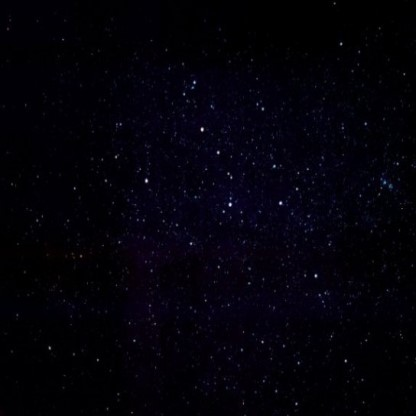Cassiopeia: (269, 194, 287, 208), (221, 197, 237, 211), (139, 173, 154, 187), (309, 266, 323, 281), (195, 120, 209, 133)
